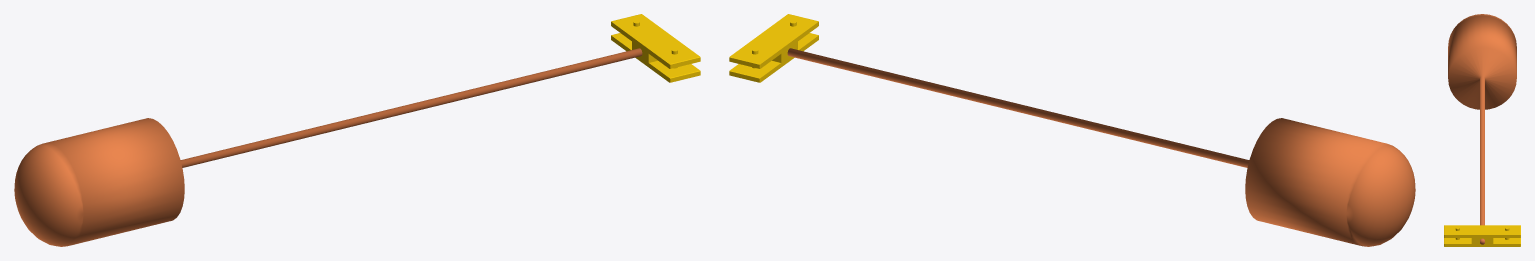
The model's file is Piston2.glb.
The picture shows the model from 3 angles, left to right: view 1: azimuth 30°, elevation 25°; view 2: azimuth 150°, elevation 25°; view 3: azimuth 270°, elevation 25°; orthographic projection. The views are drawn at different scales.
Visible parts, largest first — view 1: Sphere.001, Block2; view 2: Sphere.001, Block2; view 3: Sphere.001, Block2.
Boxes of the visible parts, <box> form: Sphere.001: <box>14,48,642,246</box>; Block2: <box>611,14,700,82</box>; Sphere.001: <box>787,48,1415,246</box>; Block2: <box>729,14,818,82</box>; Sphere.001: <box>1448,14,1516,244</box>; Block2: <box>1444,225,1520,246</box>.
Bounding box in the file's own units: 8.88 × 1.25 × 1.4.
